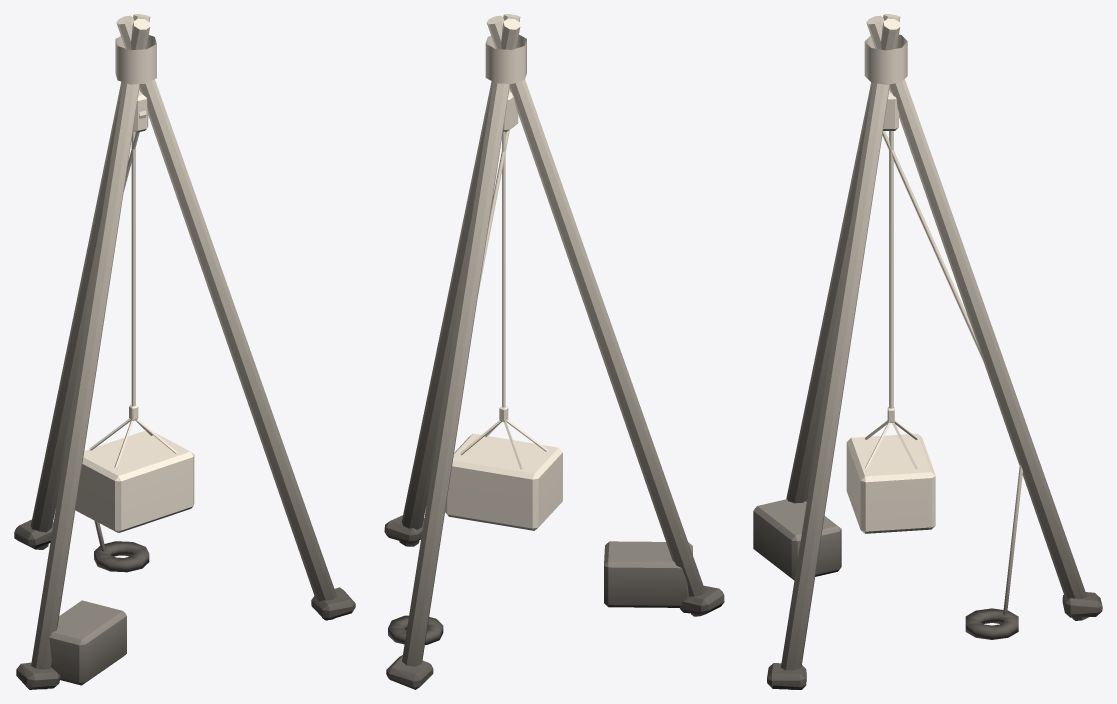
Rendered from SM_VK_Prop_ShearLegs.fbx.
3 views of the same model, side by side, from view 1: azimuth 30°, elevation 25°; view 2: azimuth 150°, elevation 25°; view 3: azimuth 270°, elevation 25° (orthographic).
Visible parts, largest first — view 1: SM_VK_Prop_ShearLegs.001; view 2: SM_VK_Prop_ShearLegs.001; view 3: SM_VK_Prop_ShearLegs.001.
Part boxes in pixels (<box>): SM_VK_Prop_ShearLegs.001: <box>14,14,355,689</box>; SM_VK_Prop_ShearLegs.001: <box>384,14,724,689</box>; SM_VK_Prop_ShearLegs.001: <box>753,14,1102,689</box>.
Bounding box in the file's own units: 3.01 × 5.23 × 2.76.
